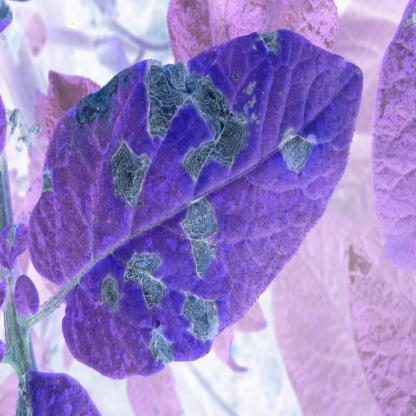Potato leaf late blight: (24, 24, 366, 378)
